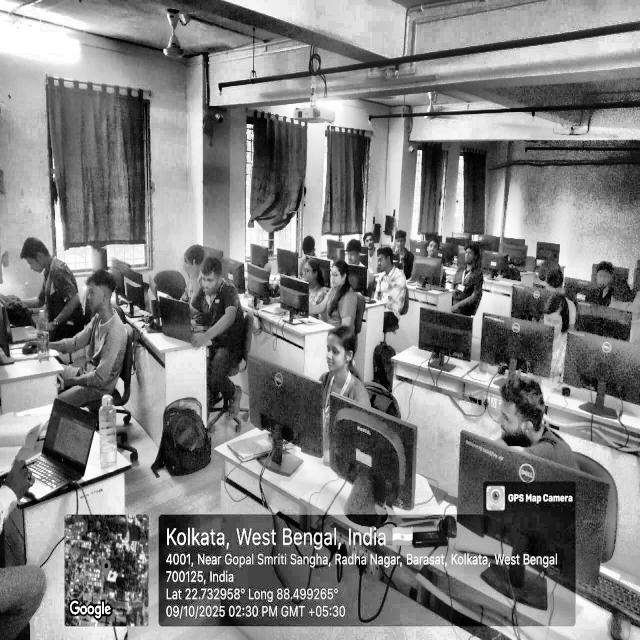Focus: (321, 324, 360, 386), (20, 230, 51, 286), (542, 291, 570, 349), (85, 271, 116, 318), (200, 262, 228, 304), (459, 244, 483, 276), (329, 259, 350, 295), (597, 256, 615, 296), (300, 256, 321, 288), (376, 246, 394, 274), (347, 238, 362, 268), (394, 229, 408, 255)
Not Focus: (494, 371, 548, 451), (426, 237, 442, 261), (364, 234, 375, 250)
